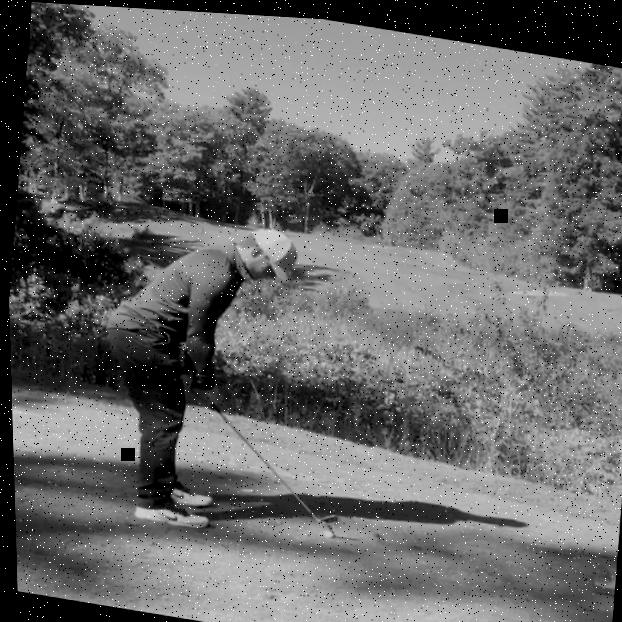ClubHead: (314, 509, 336, 524)
GolfBall: (318, 525, 332, 534)
